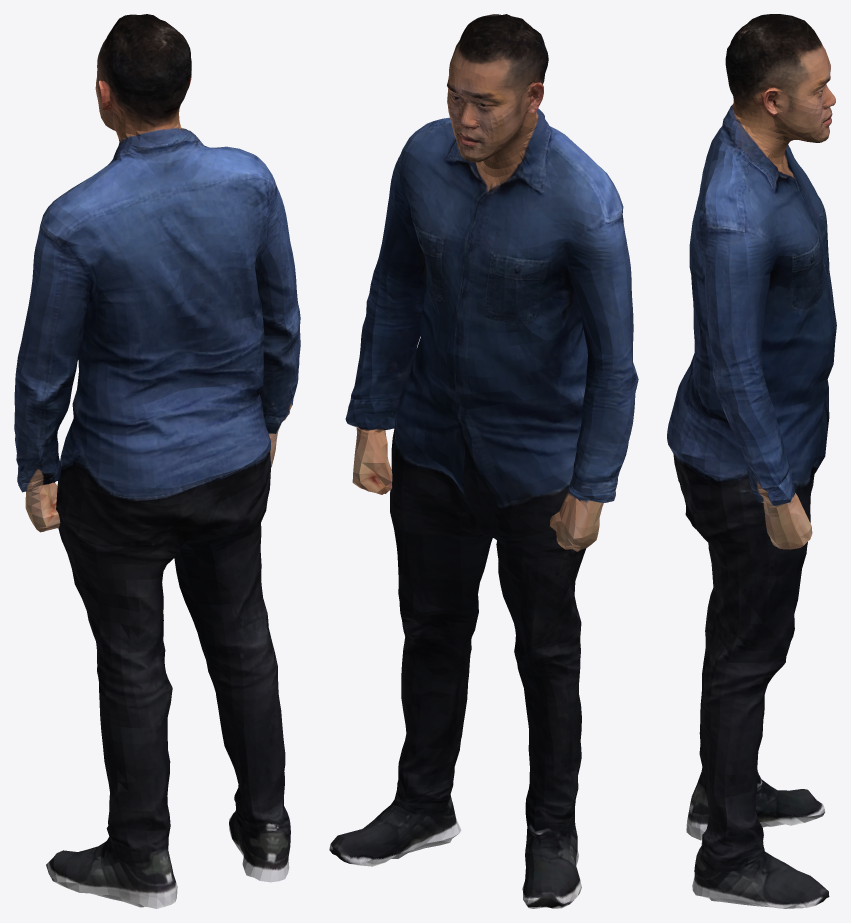
The model's file is gltfpipeline_roger_draco.glb.
3 renders of one model, left to right at view 1: azimuth 30°, elevation 25°; view 2: azimuth 150°, elevation 25°; view 3: azimuth 270°, elevation 25°, orthographic. The views are drawn at different scales.
Visible parts, largest first — view 1: roger_less_rigid_jaw.0001; view 2: roger_less_rigid_jaw.0001; view 3: roger_less_rigid_jaw.0001.
Boxes of the visible parts, x1=… form: roger_less_rigid_jaw.0001: x1=14, y1=14, x2=300, y2=908; roger_less_rigid_jaw.0001: x1=329, y1=14, x2=638, y2=908; roger_less_rigid_jaw.0001: x1=667, y1=14, x2=836, y2=908.
Size of the model in its own units: 61.25 by 180 by 33.35.
Materials: 1 (1 with a texture image).
